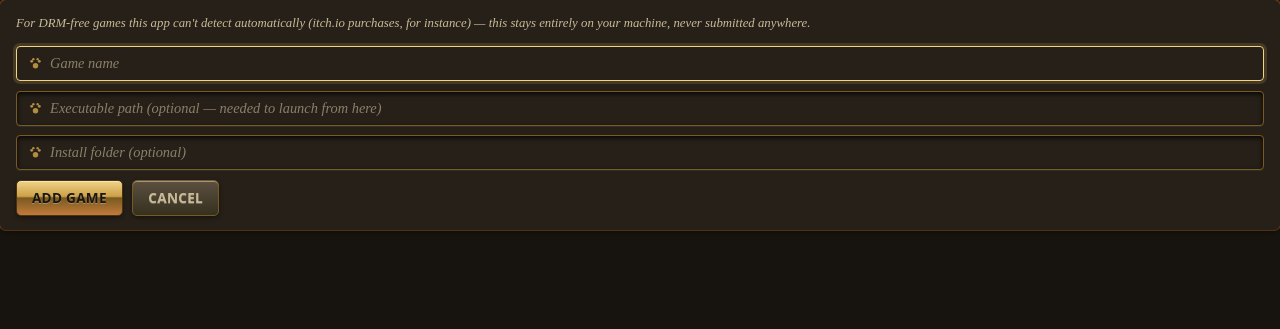
Test: AddManualGameForm › requires a name before submitting
Click the button "Add game" at coordinates (69, 198), box [16, 180, 123, 216]
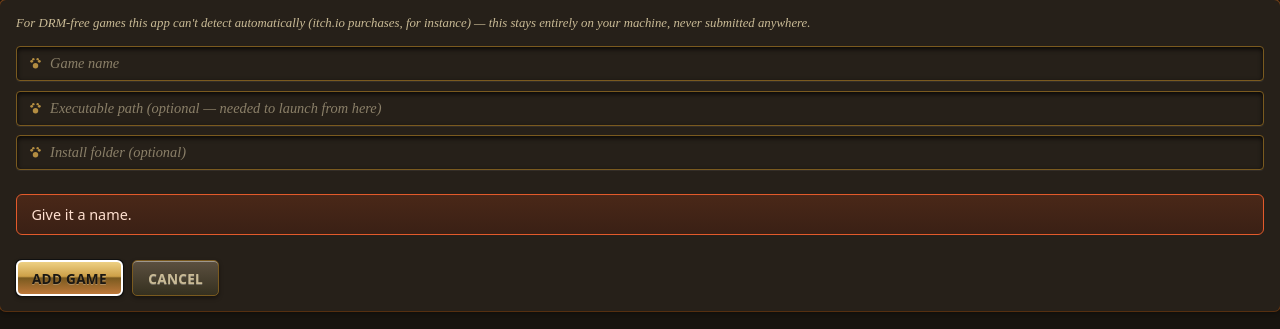
Now the text "Give it a name." is shown, box [16, 194, 1264, 235]
